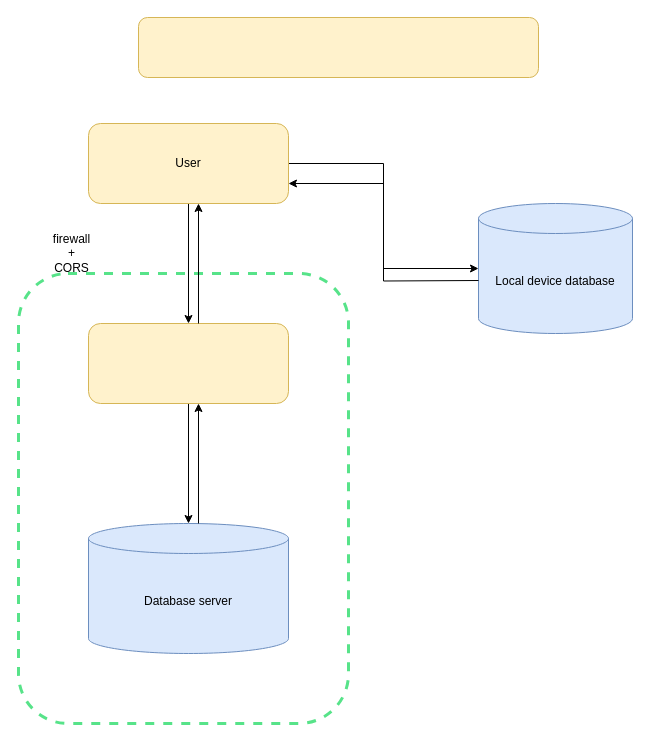
Some shapes in this 650 by 742 pixel diagram are drawn without their labels. Here are the shapes that lost their labels. From the top down, the centre of each, then its label:
At (338,47): "Whispers MVP architecture".
At (188,363): "App server".
